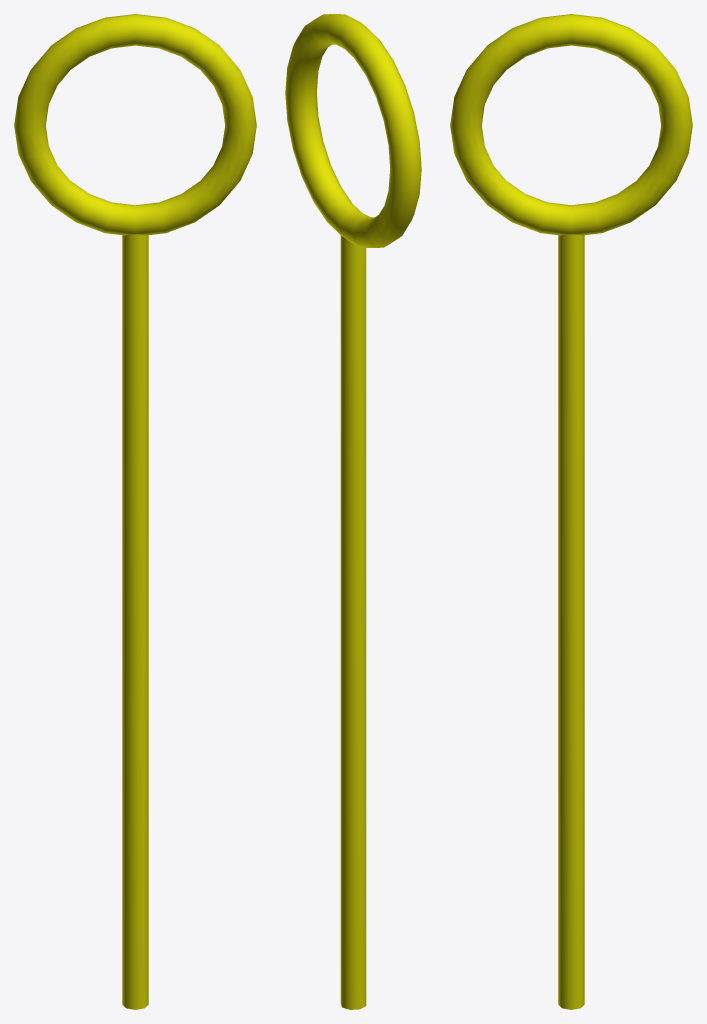
File: ring3.fbx
3 renders of one model, left to right at view 1: azimuth 90°, elevation 25°; view 2: azimuth 210°, elevation 25°; view 3: azimuth 270°, elevation 25°, orthographic.
Parts seen in each view (by area): view 1: column3, ring3; view 2: column3, ring3; view 3: column3, ring3.
Boxes of the visible parts, x1,y1,x2,y2 form: column3: (122, 234, 148, 1009); ring3: (14, 14, 256, 235); column3: (340, 235, 366, 1009); ring3: (285, 14, 421, 247); column3: (558, 234, 584, 1009); ring3: (450, 14, 692, 235).
Bounding box in the file's own units: 68.23 × 2348 × 522.
